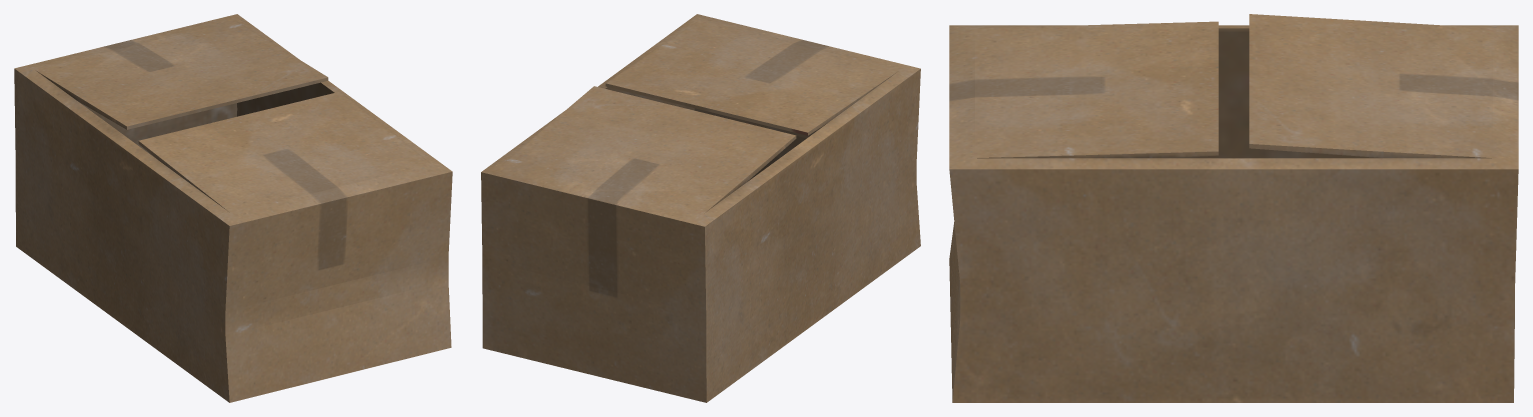
3 renders of one model, left to right at view 1: azimuth 30°, elevation 25°; view 2: azimuth 150°, elevation 25°; view 3: azimuth 270°, elevation 25°, orthographic. The views are drawn at different scales.
Visible parts, largest first — view 1: SM_Box_3_LOD0; view 2: SM_Box_3_LOD0; view 3: SM_Box_3_LOD0.
Part boxes in pixels (left/top/right/bottom): SM_Box_3_LOD0: left=14, top=14, right=452, bottom=402; SM_Box_3_LOD0: left=481, top=14, right=920, bottom=402; SM_Box_3_LOD0: left=949, top=14, right=1518, bottom=402.
Size of the model in its own units: 27.97 by 46.77 by 22.85.
1 material, 1 textured.
